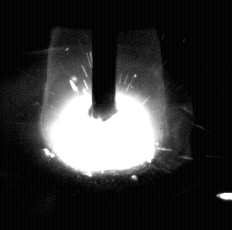arame: (93, 0, 117, 121)
poca: (38, 0, 167, 230)
